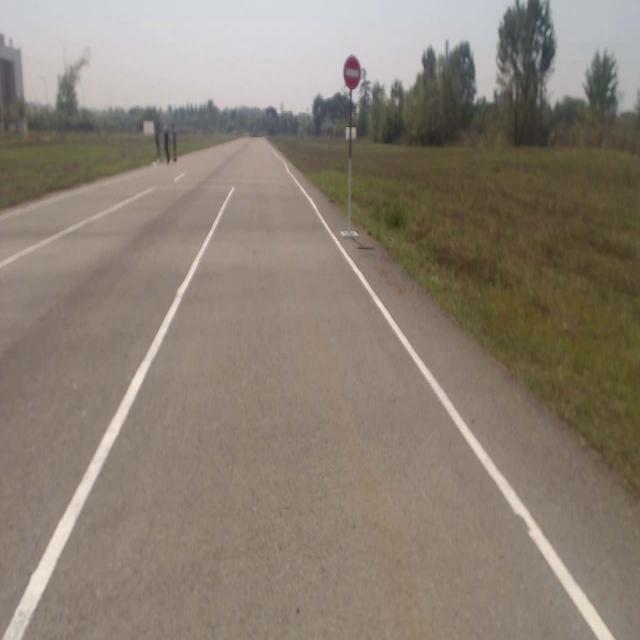girisyok: (344, 56, 360, 89)
